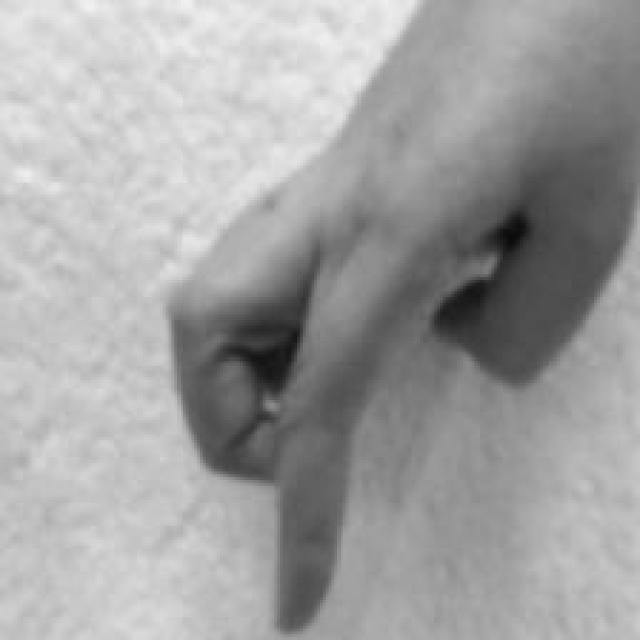P: (166, 2, 636, 640)
